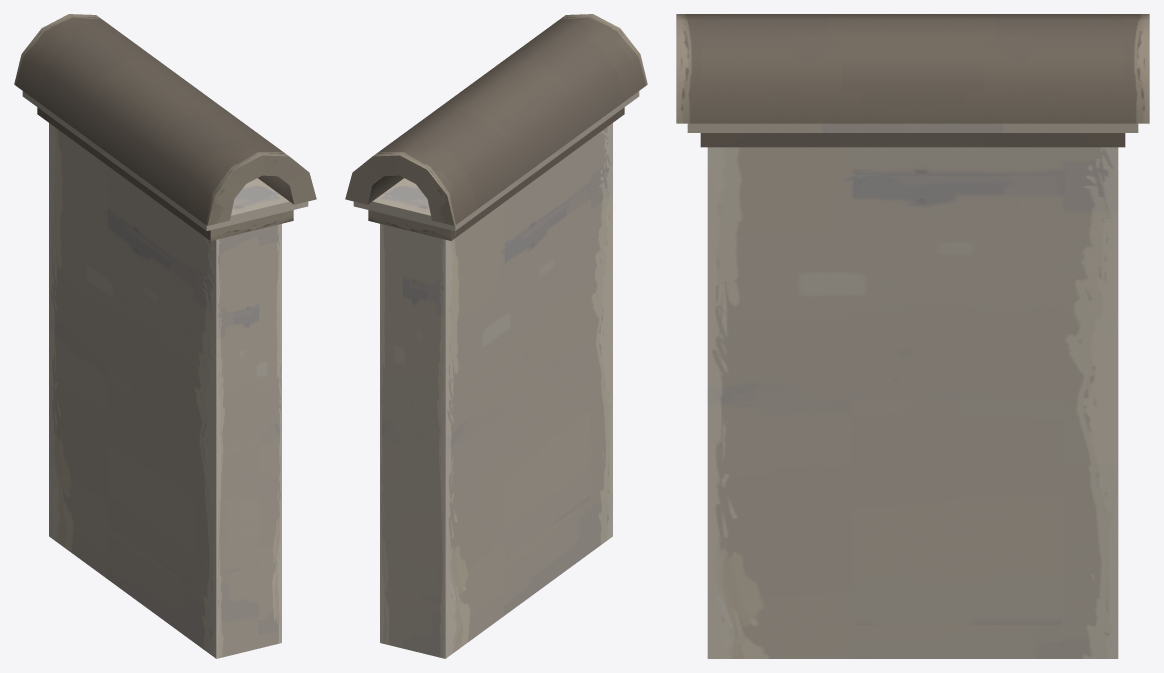
The model's file is MOD_Chimney_03_03.fbx.
3 renders of one model, left to right at view 1: azimuth 30°, elevation 25°; view 2: azimuth 150°, elevation 25°; view 3: azimuth 270°, elevation 25°, orthographic. The views are drawn at different scales.
Parts seen in each view (by area): view 1: MOD_Chimney_03_03; view 2: MOD_Chimney_03_03; view 3: MOD_Chimney_03_03.
Part boxes in pixels (box(x1,y1,x2,y2)): MOD_Chimney_03_03: box(14, 14, 316, 658); MOD_Chimney_03_03: box(345, 14, 647, 658); MOD_Chimney_03_03: box(676, 14, 1149, 658).
Bounding box in the file's own units: 151 × 667 × 462.
